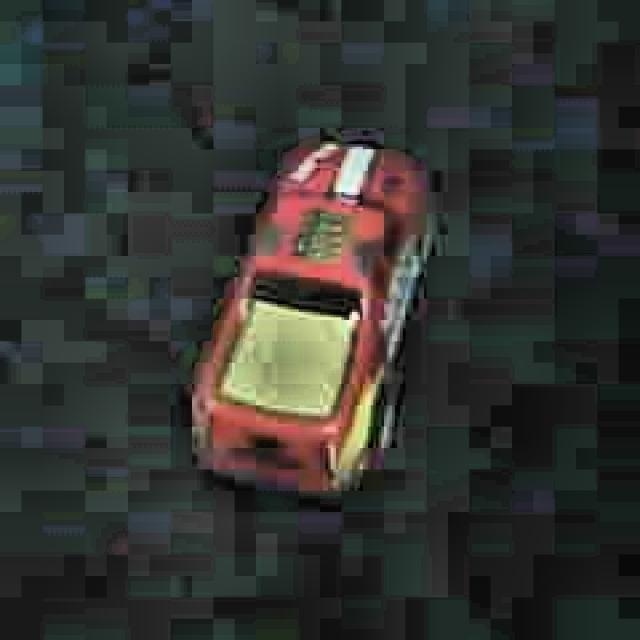car: (186, 141, 438, 495)
